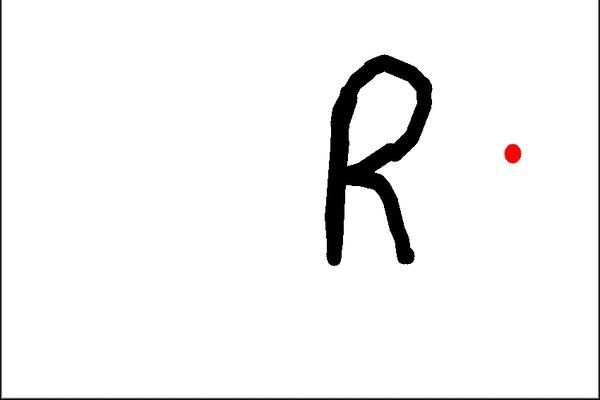R: (312, 49, 439, 276)
